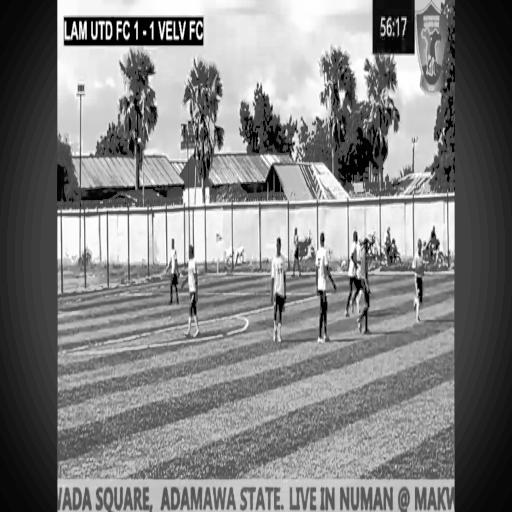referee: (359, 232, 372, 338), (292, 223, 302, 282)
team1: (311, 229, 333, 344), (166, 229, 180, 311), (349, 225, 359, 317)
team2: (184, 239, 200, 343), (271, 233, 286, 343), (410, 234, 425, 326)
